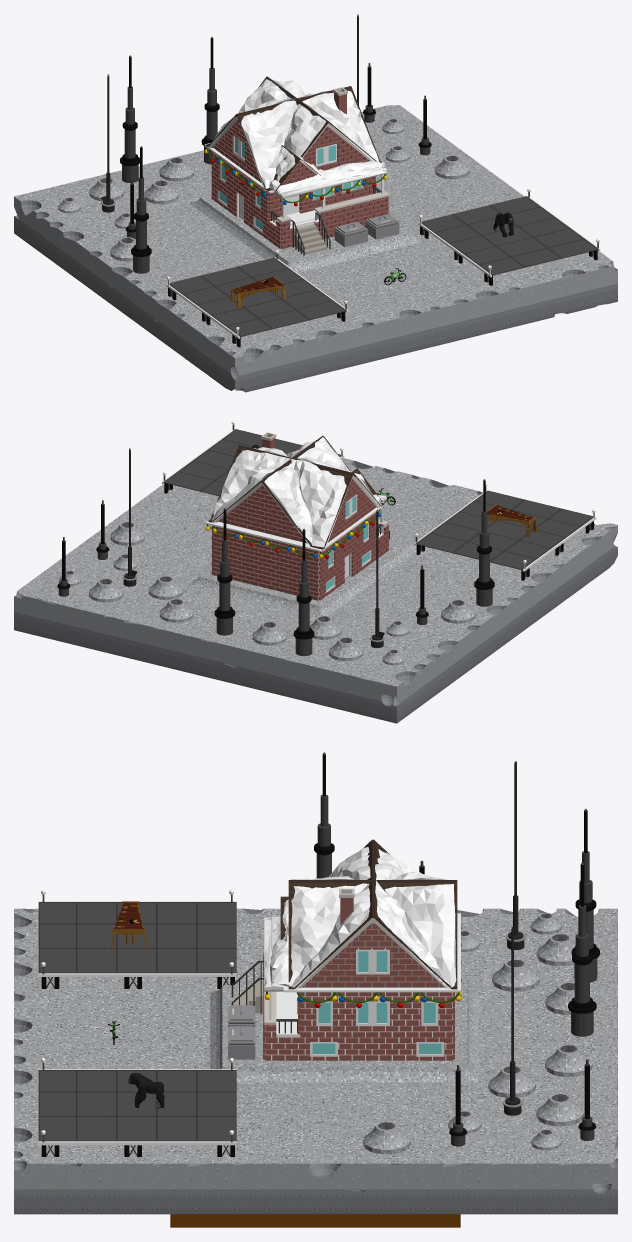
The picture shows the model from 3 angles, top to bottom: view 1: azimuth 30°, elevation 25°; view 2: azimuth 150°, elevation 25°; view 3: azimuth 270°, elevation 25°; orthographic projection. The views are drawn at different scales.
Visible parts, largest first — view 1: Cube.027, Cube.1419, Cube.026, Cube.025, Cube.028, Cylinder.020, Cylinder.021, Cylinder.017, OBJRANDOM_MARIMBA, Cube.029, Cube.030, Cylinder.033 (+4 smaller); view 2: Cube.027, Cube.1419, Cube.025, Cube.028, Cube.026, Cylinder.020, Cylinder.017, Cylinder.021, OBJRANDOM_MARIMBA, Cylinder.030, Cylinder.025, Cylinder.027 (+7 smaller); view 3: Cube.027, Cube.1419, Cube.026, Cube.025, Cube.028, UNDERGROUND_ART_PIECE_VAN_GOGH, Cylinder.017, Cylinder.020, Cylinder.021, Cylinder.033, Cylinder.031, Cylinder.029 (+11 smaller).
Boxes of the visible parts, left/top/right/bottom form: Cube.027: left=14, top=105, right=617, bottom=392; Cube.1419: left=204, top=76, right=389, bottom=255; Cube.026: left=418, top=188, right=600, bottom=285; Cube.025: left=166, top=250, right=348, bottom=347; Cube.028: left=190, top=194, right=422, bottom=272; Cylinder.020: left=120, top=55, right=139, bottom=182; Cylinder.021: left=131, top=146, right=151, bottom=273; Cylinder.017: left=201, top=37, right=219, bottom=164; OBJRANDOM_MARIMBA: left=230, top=276, right=286, bottom=307; Cube.029: left=334, top=221, right=367, bottom=247; Cube.030: left=366, top=214, right=399, bottom=239; Cylinder.033: left=435, top=155, right=469, bottom=179; Cube.027: left=14, top=458, right=617, bottom=723; Cube.1419: left=205, top=432, right=389, bottom=600; Cube.025: left=414, top=483, right=596, bottom=580; Cube.028: left=188, top=536, right=416, bottom=617; Cube.026: left=162, top=421, right=344, bottom=495; Cylinder.020: left=293, top=528, right=314, bottom=656; Cylinder.017: left=214, top=508, right=235, bottom=635; Cylinder.021: left=474, top=479, right=494, bottom=606; OBJRANDOM_MARIMBA: left=487, top=504, right=536, bottom=536; Cylinder.030: left=148, top=575, right=183, bottom=599; Cylinder.025: left=441, top=599, right=475, bottom=623; Cylinder.027: left=252, top=621, right=286, bottom=645; Cube.027: left=14, top=908, right=617, bottom=1214; Cube.1419: left=231, top=839, right=461, bottom=1060; Cube.026: left=38, top=1058, right=236, bottom=1156; Cube.025: left=38, top=889, right=236, bottom=988; Cube.028: left=210, top=985, right=478, bottom=1082; UNDERGROUND_ART_PIECE_VAN_GOGH: left=170, top=1214, right=460, bottom=1227; Cylinder.017: left=568, top=862, right=596, bottom=1036; Cylinder.020: left=571, top=808, right=599, bottom=982; Cylinder.021: left=314, top=752, right=334, bottom=878; Cylinder.033: left=363, top=1121, right=410, bottom=1154; Cylinder.031: left=536, top=1093, right=583, bottom=1126; Cylinder.029: left=545, top=1044, right=592, bottom=1076.
Size of the model in its own units: 4000 by 1925 by 4000.
40 materials, 5 textured.
